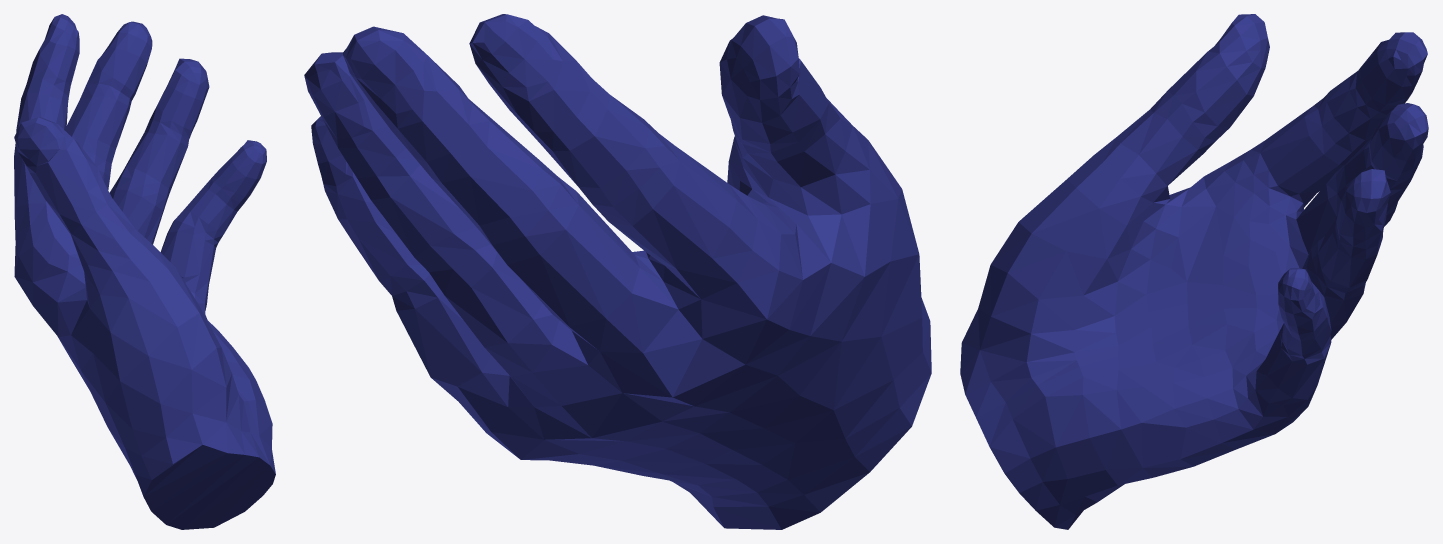
3 views of the same model, side by side, from view 1: azimuth 30°, elevation 25°; view 2: azimuth 150°, elevation 25°; view 3: azimuth 270°, elevation 25° (orthographic). The views are drawn at different scales.
Size of the model in its own units: 0.1058 by 0.155 by 0.1342.
